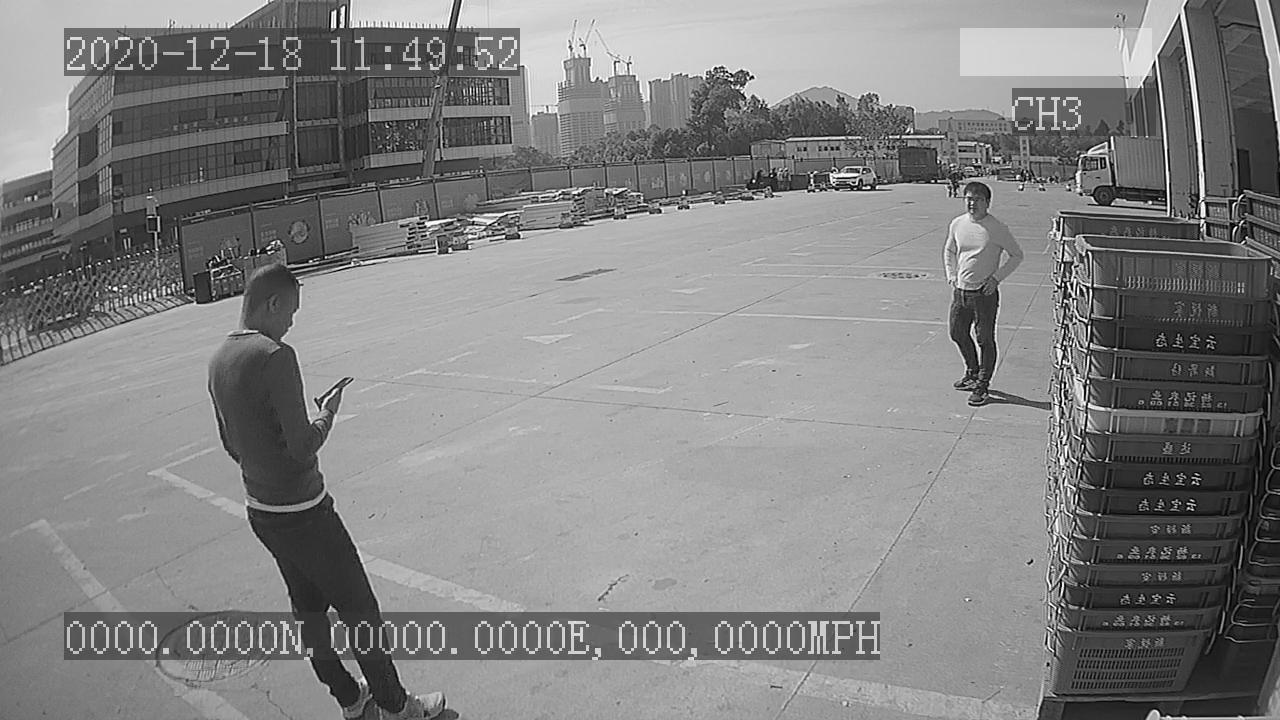person: (940, 181, 1027, 410)
